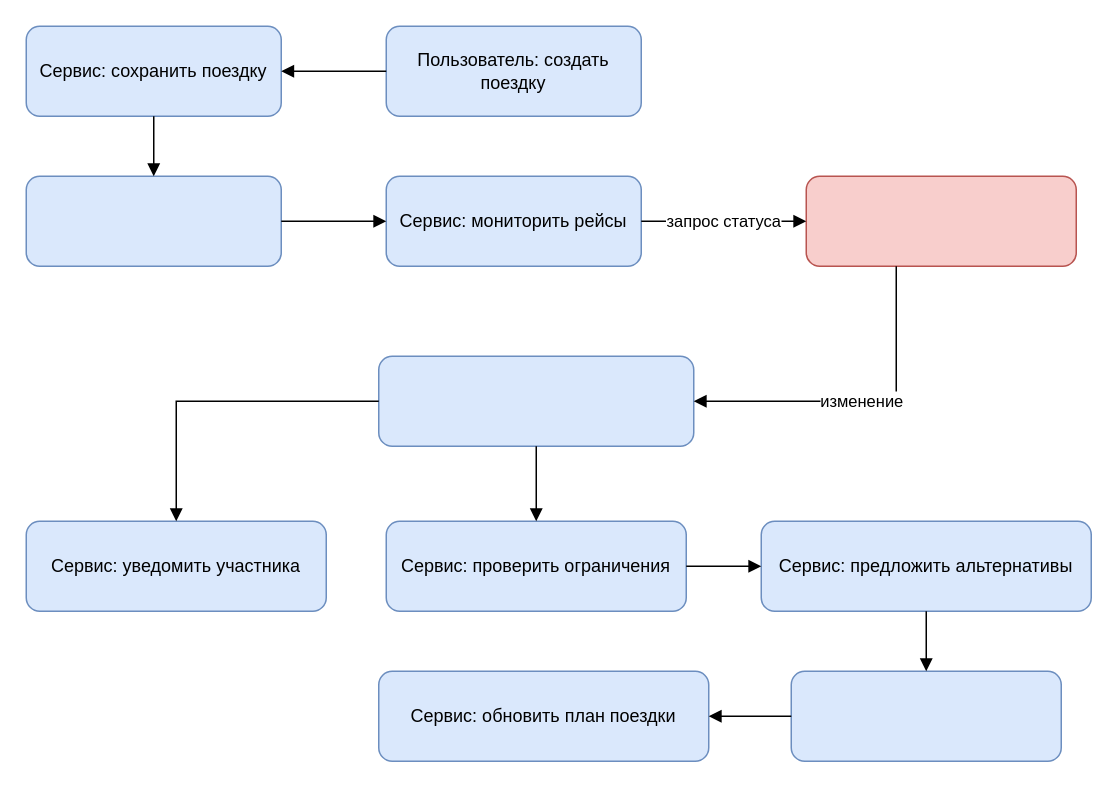
Some shapes in this 1118 by 788 pixel diagram are drawn without their labels. Each missing label, with the centre of its shape:
"Flight API: задержка / отмена" belongs at point 940,220.
"Пользователь: выбрать вариант" belongs at point 925,715.
"Пользователь: добавить элементы" belongs at point 153,220.
"Сервис: создать событие изменения" belongs at point 535,400.
